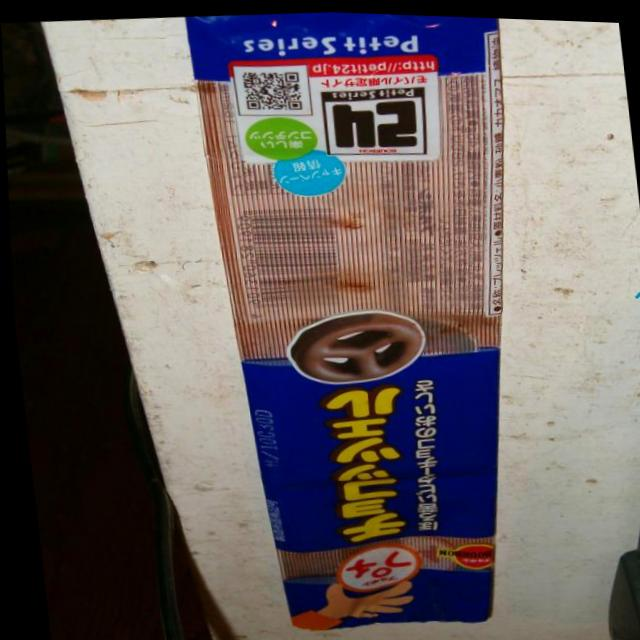qrcode: (241, 67, 301, 111)
